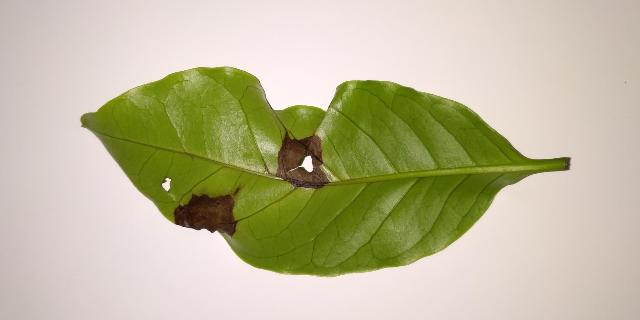rust: (276, 133, 330, 189), (174, 193, 237, 236)
